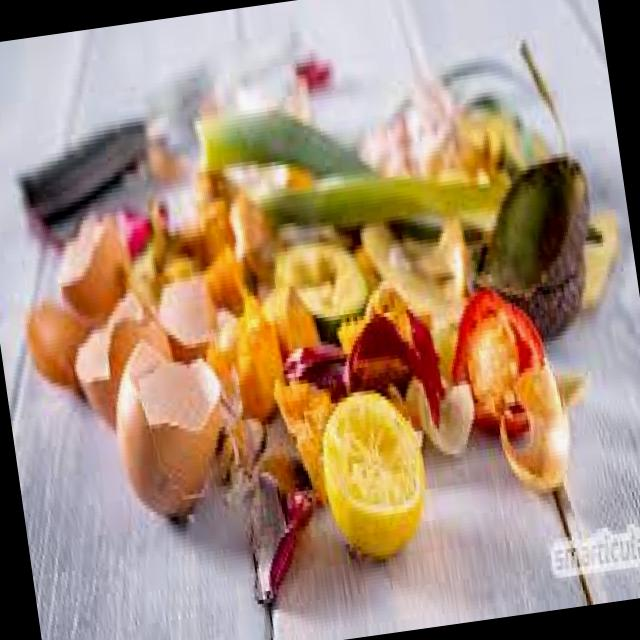organic: (0, 42, 640, 617)
